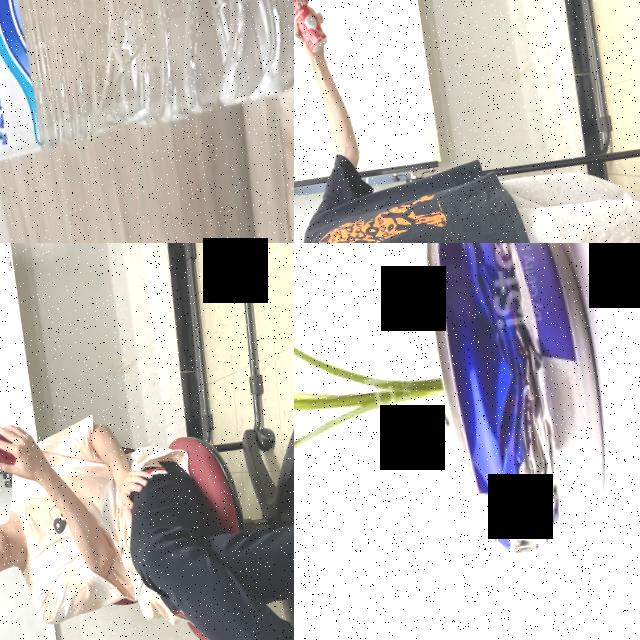bottle: (0, 0, 294, 206)
can: (294, 0, 331, 59)
